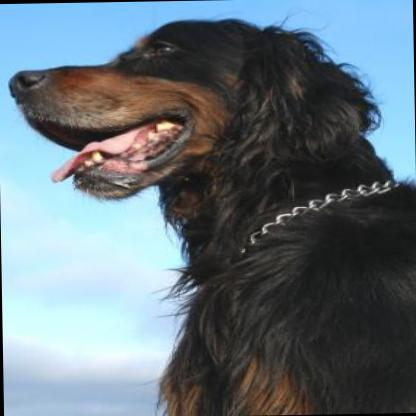Gordon_setter: (0, 2, 416, 416)
